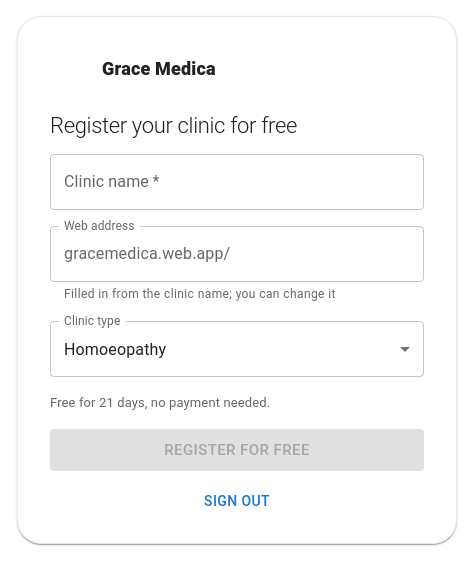
Test case: SetupPage › derives the web address and gates the button on the name
Check: the button "Register for free" is disabled, box [50, 429, 424, 471]
Type "Sun Clinic" into the field labelled "Clinic name *". click: (237, 182)
box: [50, 154, 424, 210]
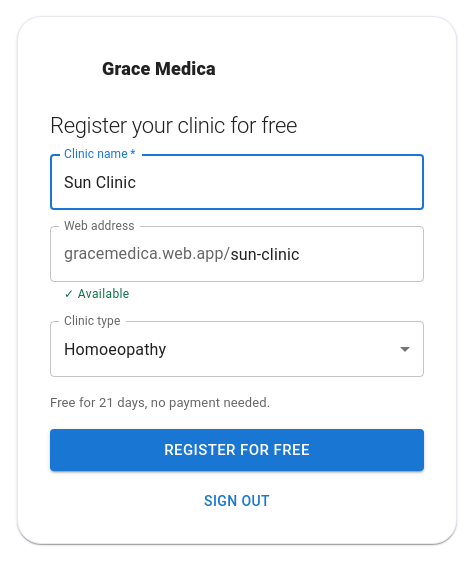
Check: the field labelled "Web address" holds "sun-clinic", box [230, 226, 424, 282]
Check: the text "✓ Available" is shown, box [64, 287, 130, 301]
Check: the button "Register for free" is enabled, box [50, 429, 424, 471]
